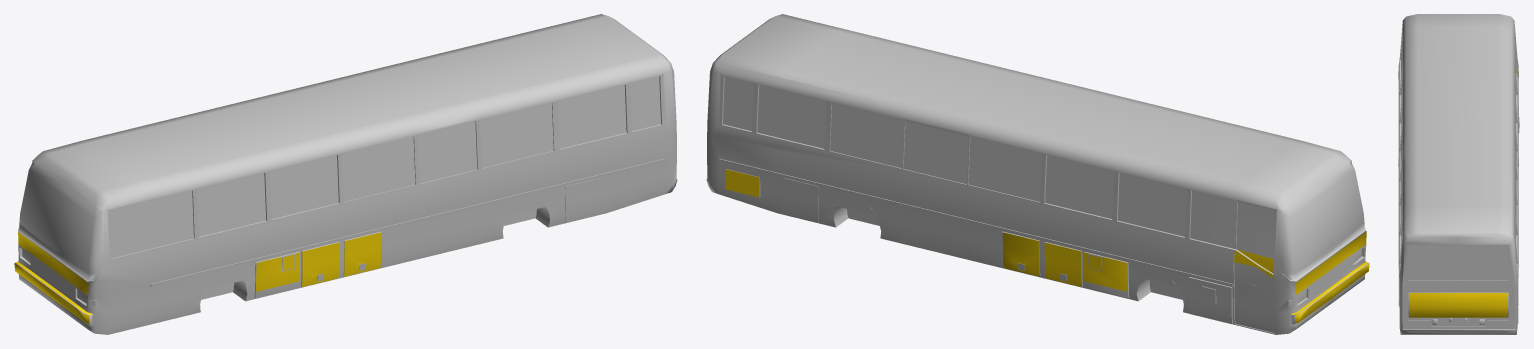
Rendered from ACha.obj.
3 views of the same model, side by side, from view 1: azimuth 30°, elevation 25°; view 2: azimuth 150°, elevation 25°; view 3: azimuth 270°, elevation 25° (orthographic). The views are drawn at different scales.
Parts seen in each view (by area): view 1: Bus_Body_Plane_003; view 2: Bus_Body_Plane_003; view 3: Bus_Body_Plane_003.
Boxes of the visible parts, x1,y1,x2,y2 form: Bus_Body_Plane_003: [14, 14, 677, 334]; Bus_Body_Plane_003: [706, 14, 1369, 334]; Bus_Body_Plane_003: [1398, 14, 1519, 334].
Size of the model in its own units: 9.55 by 2.09 by 2.12.
